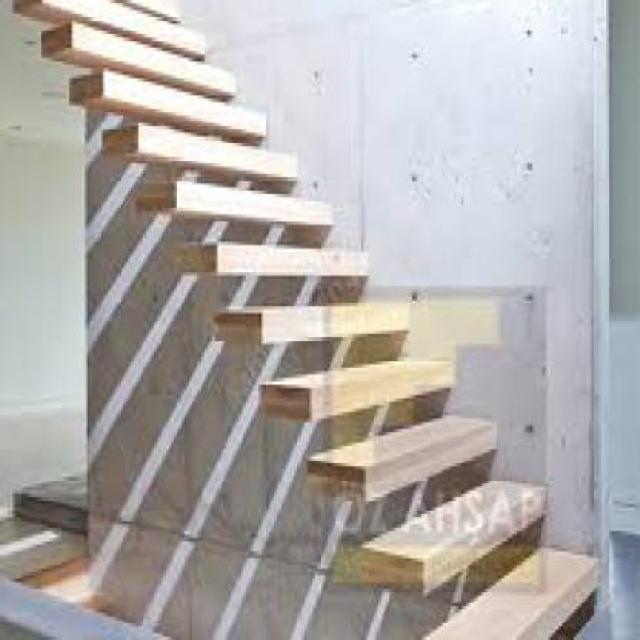stair: (7, 0, 615, 637)
